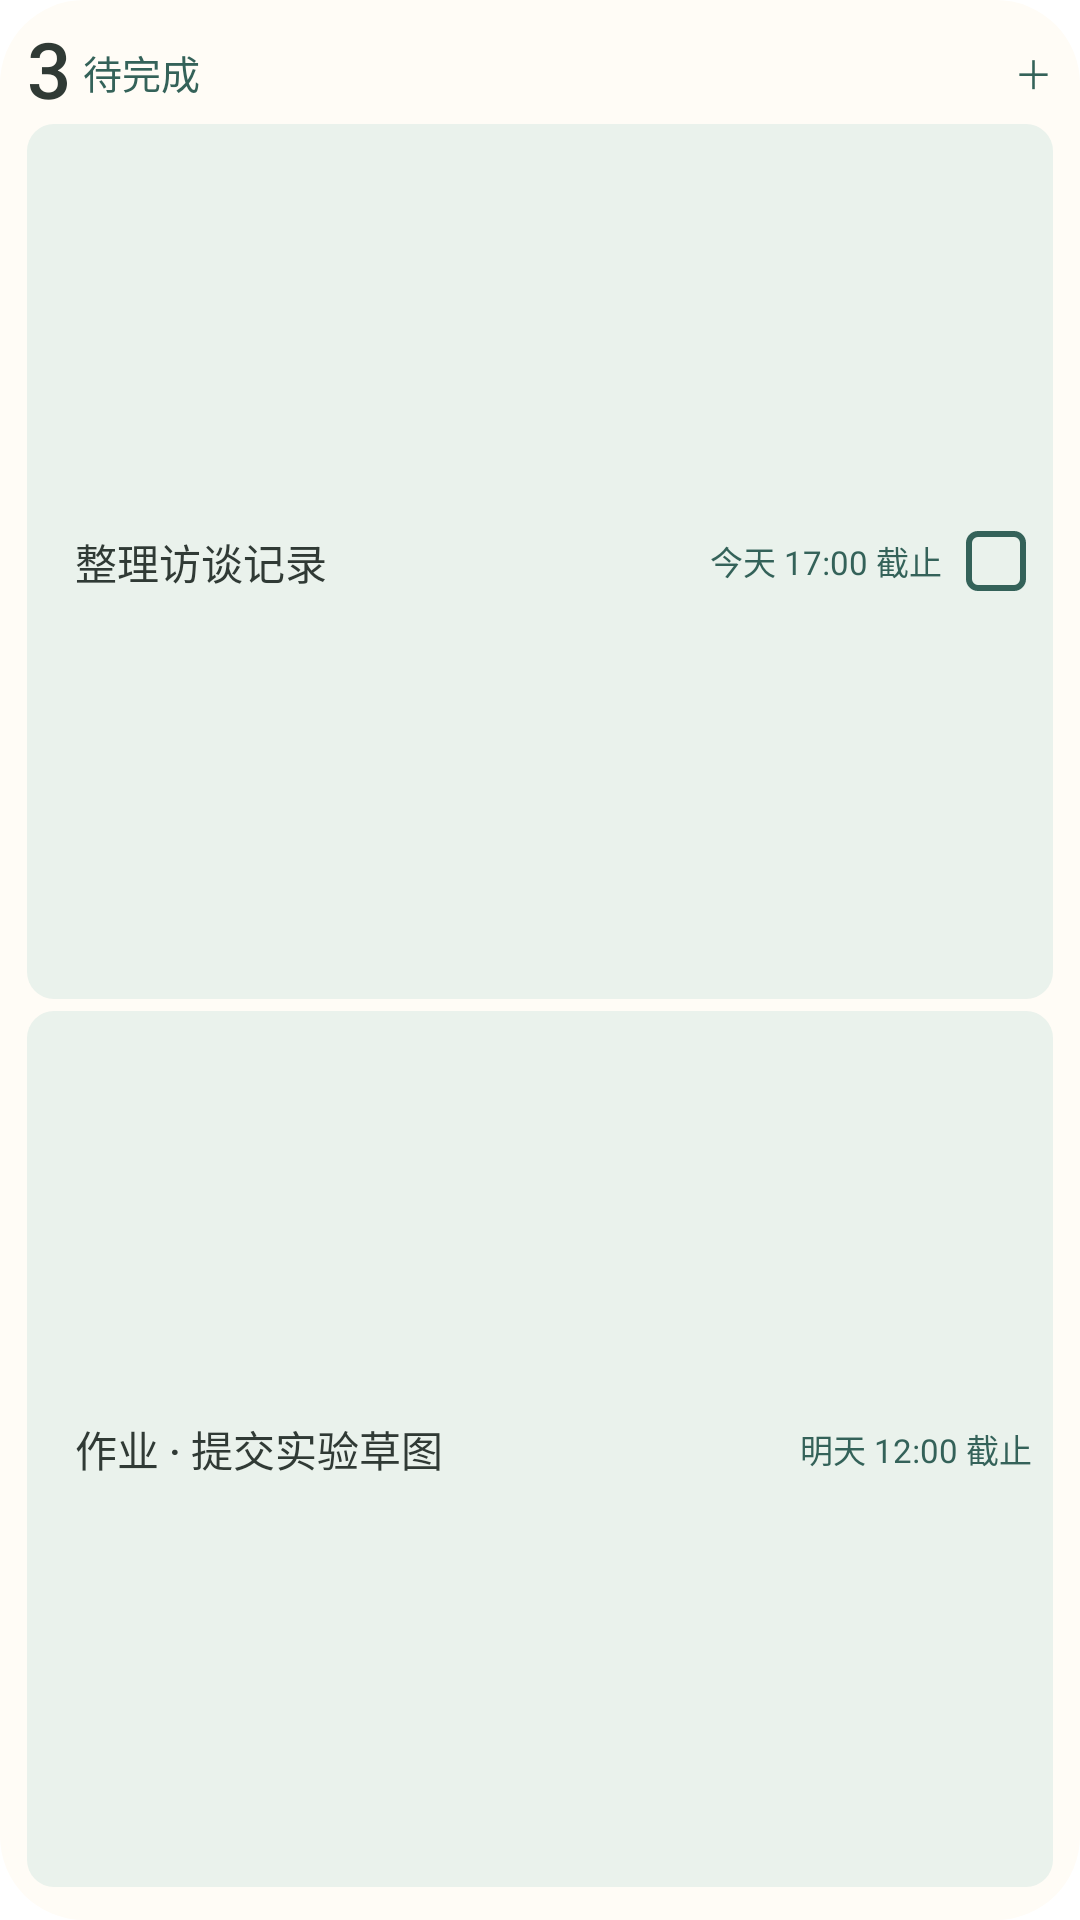

Screen size 1080 x 1920. Icon name, then its box in pixels as [x1=x1, y1=y1, x2=x2, y2=y2]:
widget check: [x1=966, y1=531, x2=1026, y2=591]
